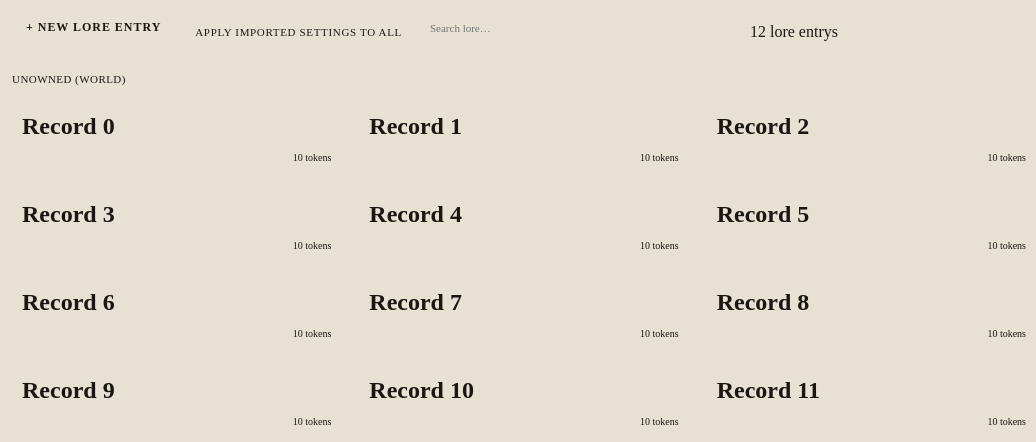
Test case: a filter matching nothing is not an empty world
The image size is (1036, 442).
Expected: the text "Record 0" is shown, x1=22 y1=113 x2=115 y2=139
Type "zzz" into the search field labelled "Search lore…" at coordinates (582, 28), box x1=422 y1=16 x2=742 y2=40
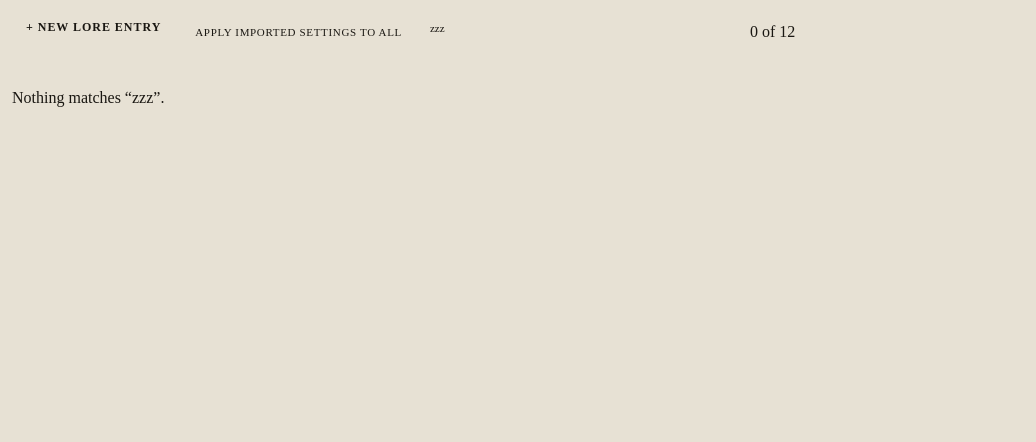
Expected: the text "Nothing matches “zzz”." is shown, x1=12 y1=89 x2=164 y2=106
